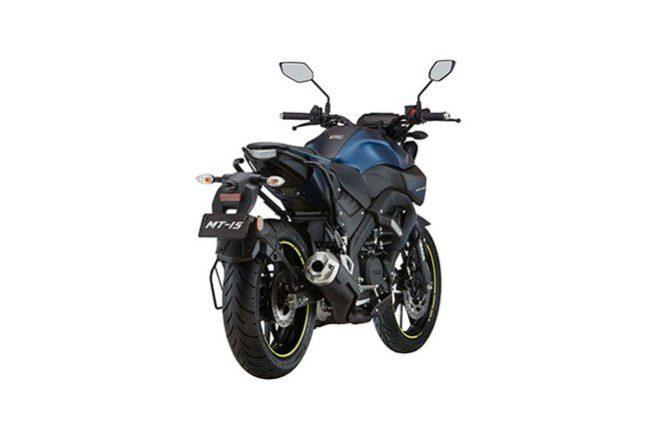motorbike: (194, 58, 460, 379)
